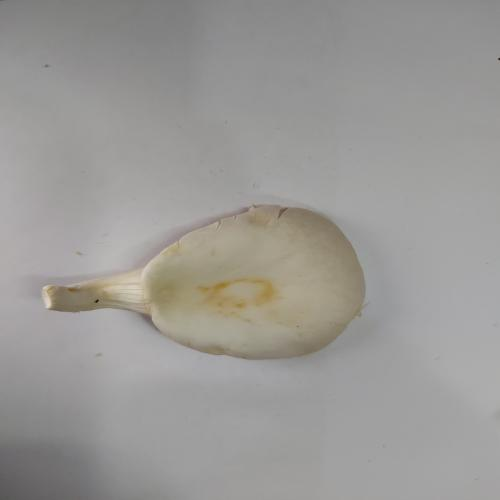Oyster Mushroom: (41, 203, 367, 360)
